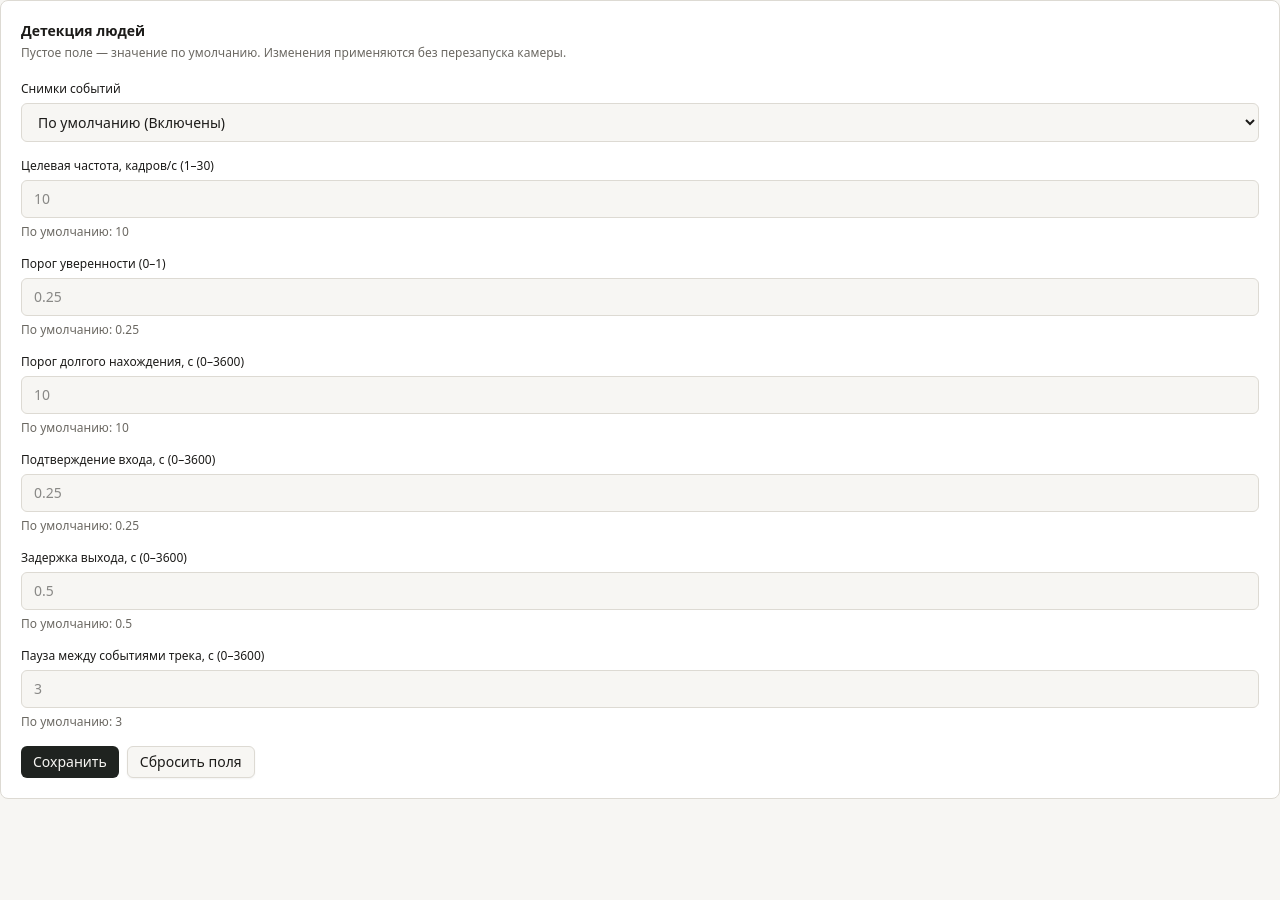
rejects values outside the domain even on programmatic submit
Type "99" into the number field with id "fps-a". click: (640, 199)
box: [21,180,1259,218]
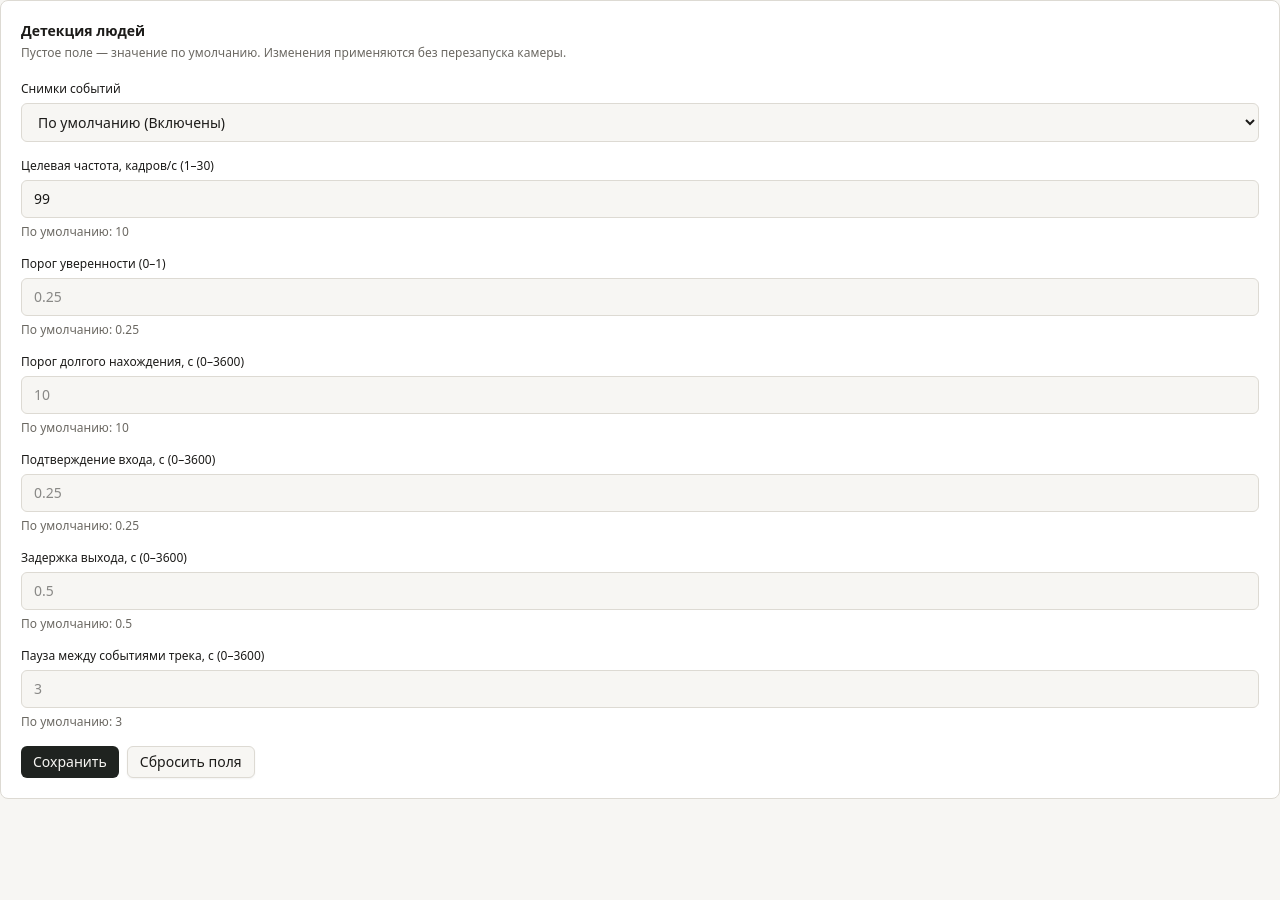
Submit the form
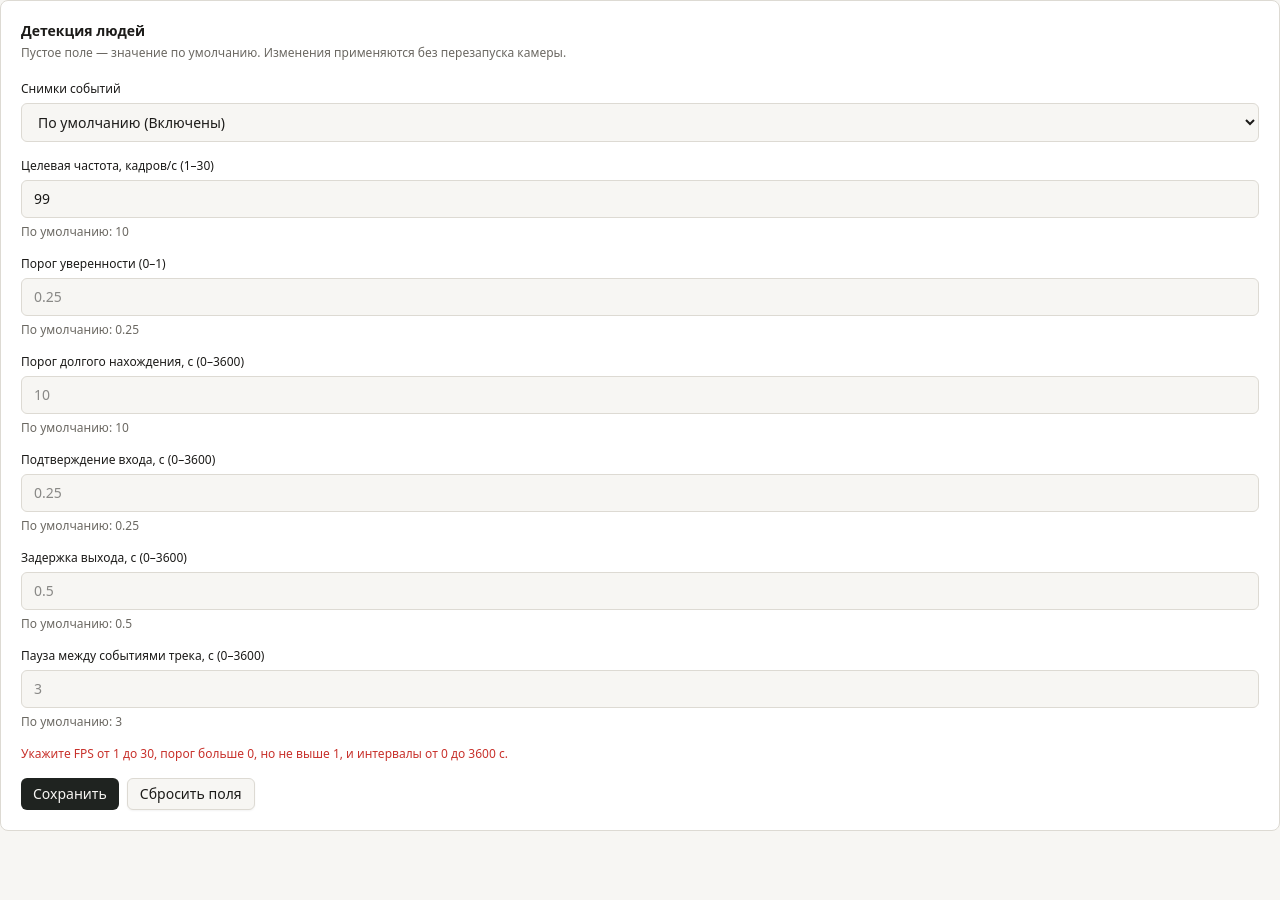
Check: the message shows "от 1 до 30", box [21,745,508,762]
